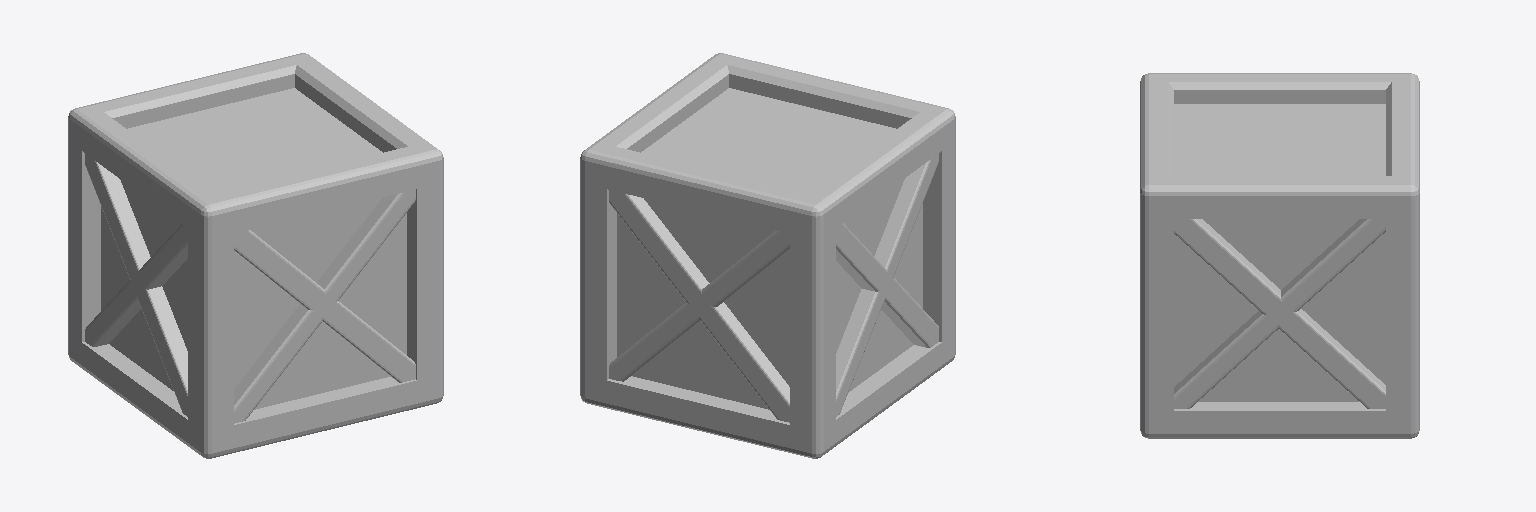
File: WoodenCube.obj
3 views of the same model, side by side, from view 1: azimuth 30°, elevation 25°; view 2: azimuth 150°, elevation 25°; view 3: azimuth 270°, elevation 25° (orthographic).
Parts seen in each view (by area): view 1: Crate_Plane.005; view 2: Crate_Plane.005; view 3: Crate_Plane.005.
Part boxes in pixels (left/top/right/bottom): Crate_Plane.005: left=68, top=53, right=443, bottom=458; Crate_Plane.005: left=580, top=53, right=955, bottom=458; Crate_Plane.005: left=1140, top=73, right=1419, bottom=438.
Size of the model in its own units: 5 by 5 by 5.